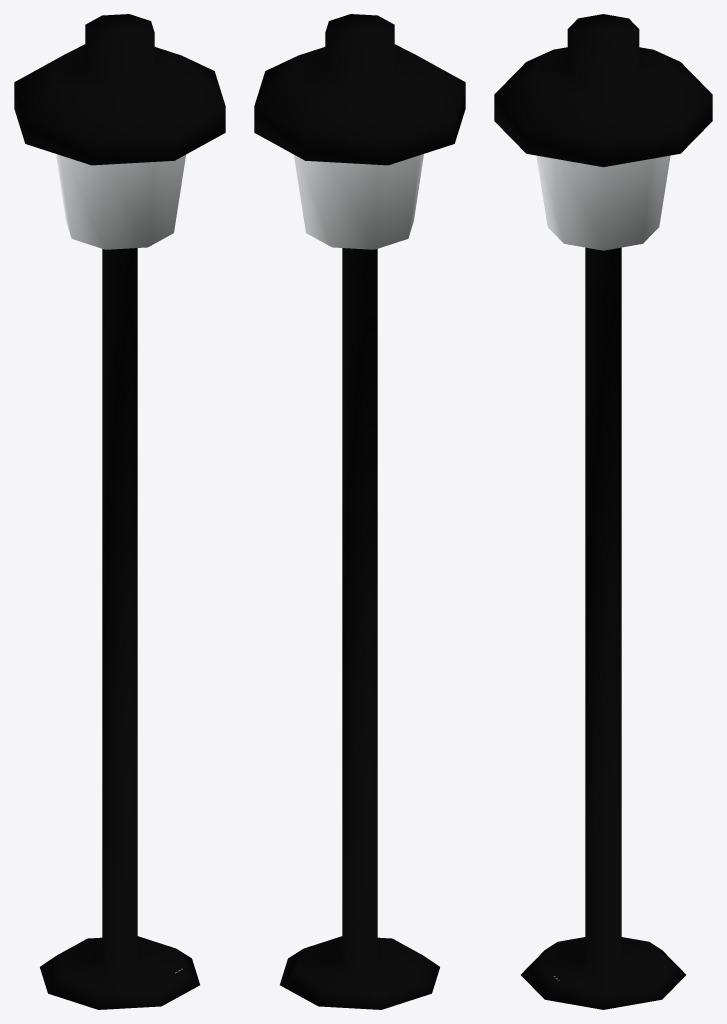
File: light.obj
3 views of the same model, side by side, from view 1: azimuth 30°, elevation 25°; view 2: azimuth 150°, elevation 25°; view 3: azimuth 270°, elevation 25° (orthographic).
Visible parts, largest first — view 1: Cylinder.001; view 2: Cylinder.001; view 3: Cylinder.001.
Part boxes in pixels (x1=…): Cylinder.001: x1=14, y1=14, x2=225, y2=1009; Cylinder.001: x1=254, y1=14, x2=465, y2=1009; Cylinder.001: x1=494, y1=14, x2=712, y2=1009.
Size of the model in its own units: 1.09 by 5.22 by 1.09.
1 material, 1 textured.
